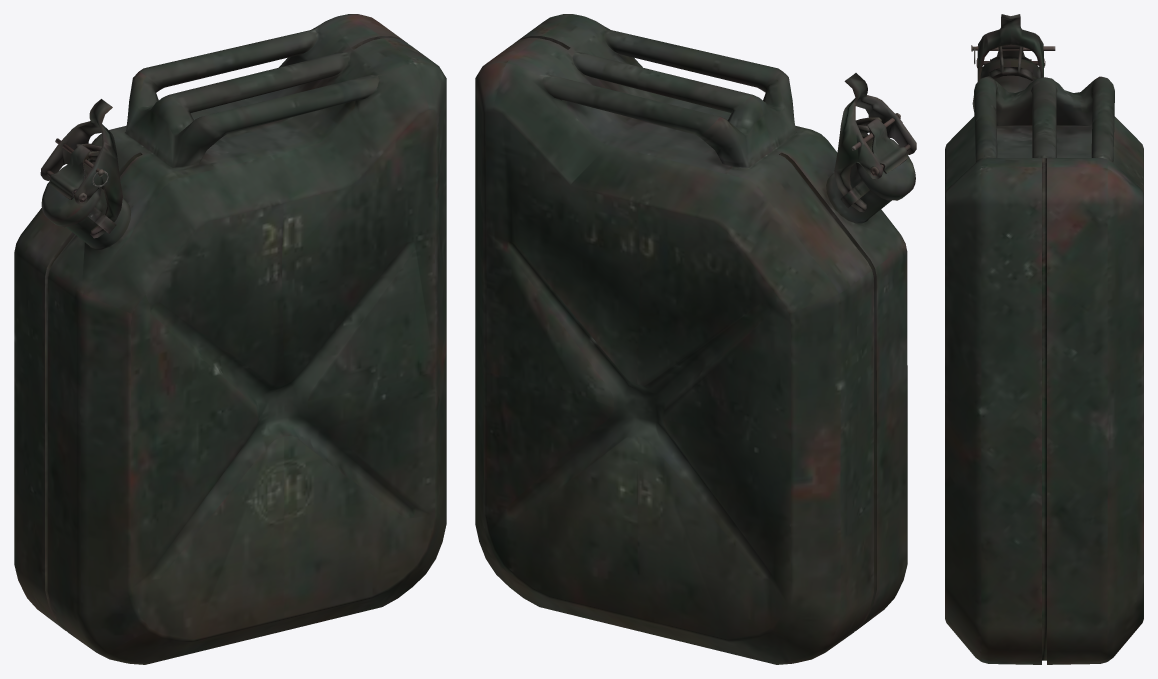
The model's file is metal_jerrycan_green.glb.
3 views of the same model, side by side, from view 1: azimuth 30°, elevation 25°; view 2: azimuth 150°, elevation 25°; view 3: azimuth 270°, elevation 25° (orthographic). The views are drawn at different scales.
Visible parts, largest first — view 1: metal_jerrycan_green_pin; view 2: metal_jerrycan_green_pin; view 3: metal_jerrycan_green_pin.
Boxes of the visible parts, box(x1,y1,x2,y2) form: metal_jerrycan_green_pin: box(14, 14, 446, 664); metal_jerrycan_green_pin: box(475, 14, 916, 664); metal_jerrycan_green_pin: box(945, 14, 1143, 664).
Bounding box in the file's own units: 0.3604 × 0.4998 × 0.1709.
Materials: 1 (1 with a texture image).
